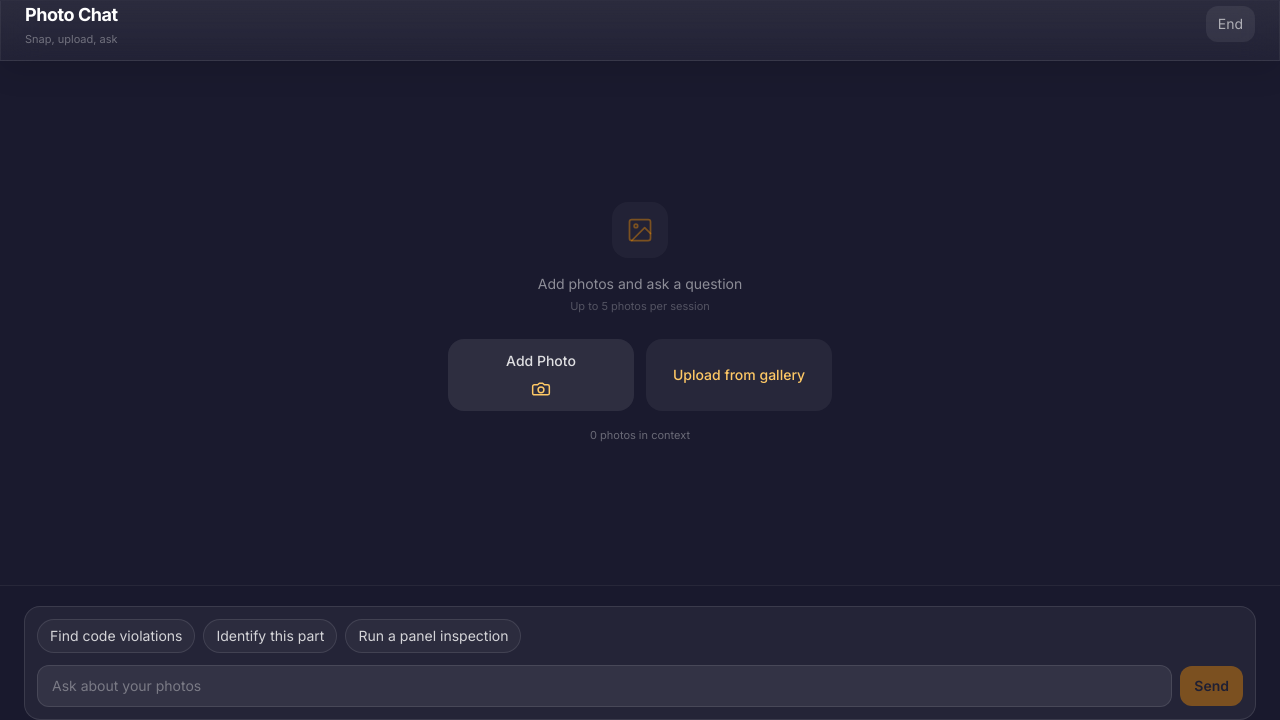
Test: PhotoChatView › shows analysis overlay while sending
The image size is (1280, 720).
Type "Check this panel" into the field with placeholder "Ask about your photos" at (605, 686), box x1=37 y1=665 x2=1172 y2=707
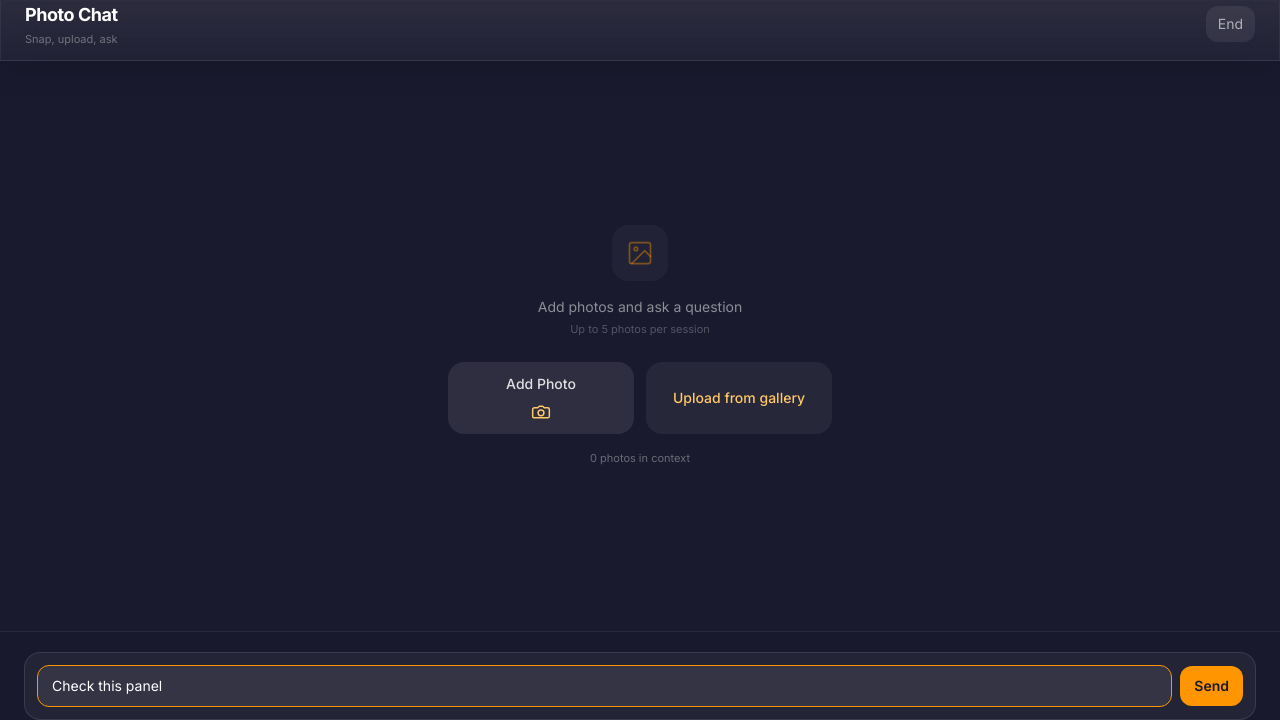
Click the button "Send" at (1212, 686), box x1=1180 y1=666 x2=1243 y2=706
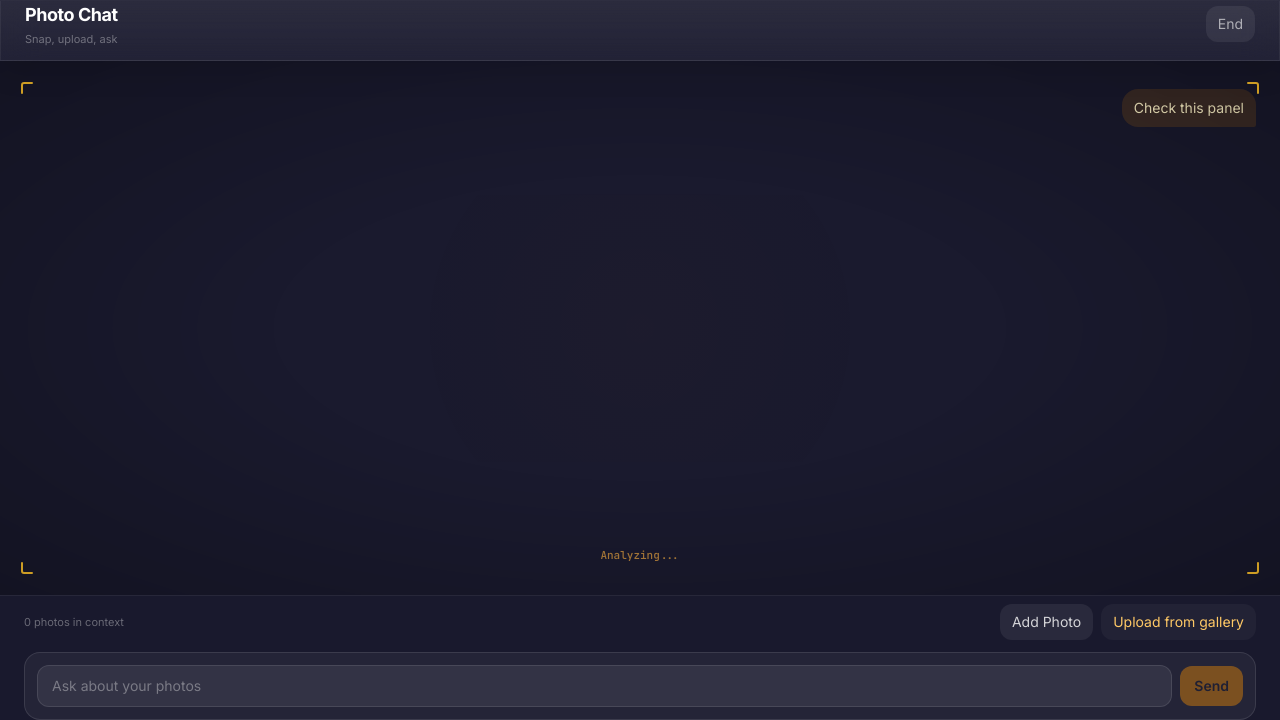
Now the element with test id "analysis-overlay" is shown
